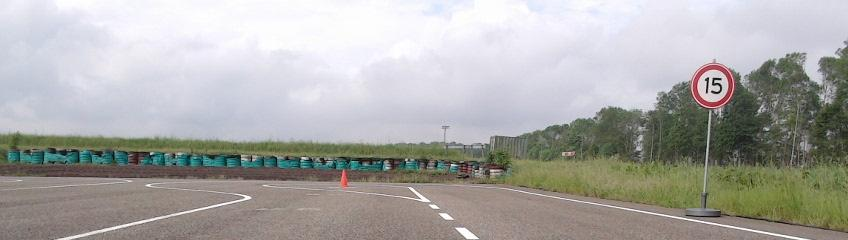Speed-limit-15km-h-: (691, 63, 734, 108)
